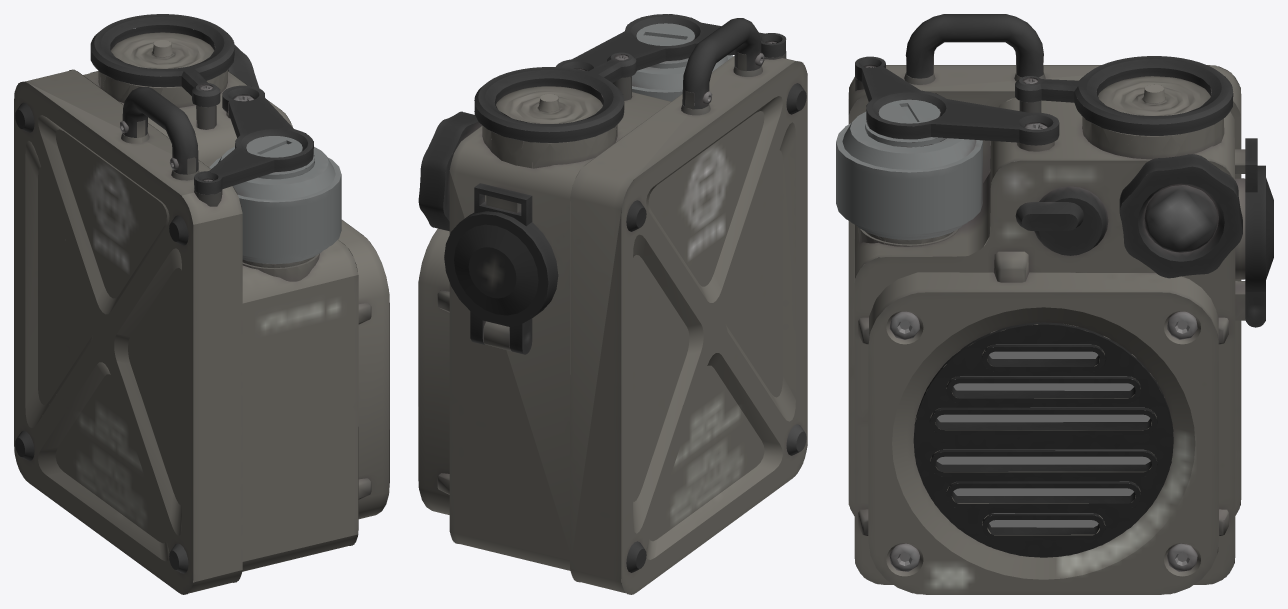
Rendered from portable-bluetooth-speaker--muzen---free-2c89bb.glb.
The picture shows the model from 3 angles, left to right: view 1: azimuth 30°, elevation 25°; view 2: azimuth 150°, elevation 25°; view 3: azimuth 270°, elevation 25°; orthographic projection. The views are drawn at different scales.
Visible parts, largest first — view 1: PropMesh; view 2: PropMesh; view 3: PropMesh.
Part boxes in pixels (x1,y1,x2,y2): PropMesh: [14, 14, 389, 594]; PropMesh: [418, 14, 807, 594]; PropMesh: [836, 14, 1273, 594].
Bounding box in the file's own units: 0.1457 × 0.2998 × 0.2379.
Materials: 1 (1 with a texture image).
